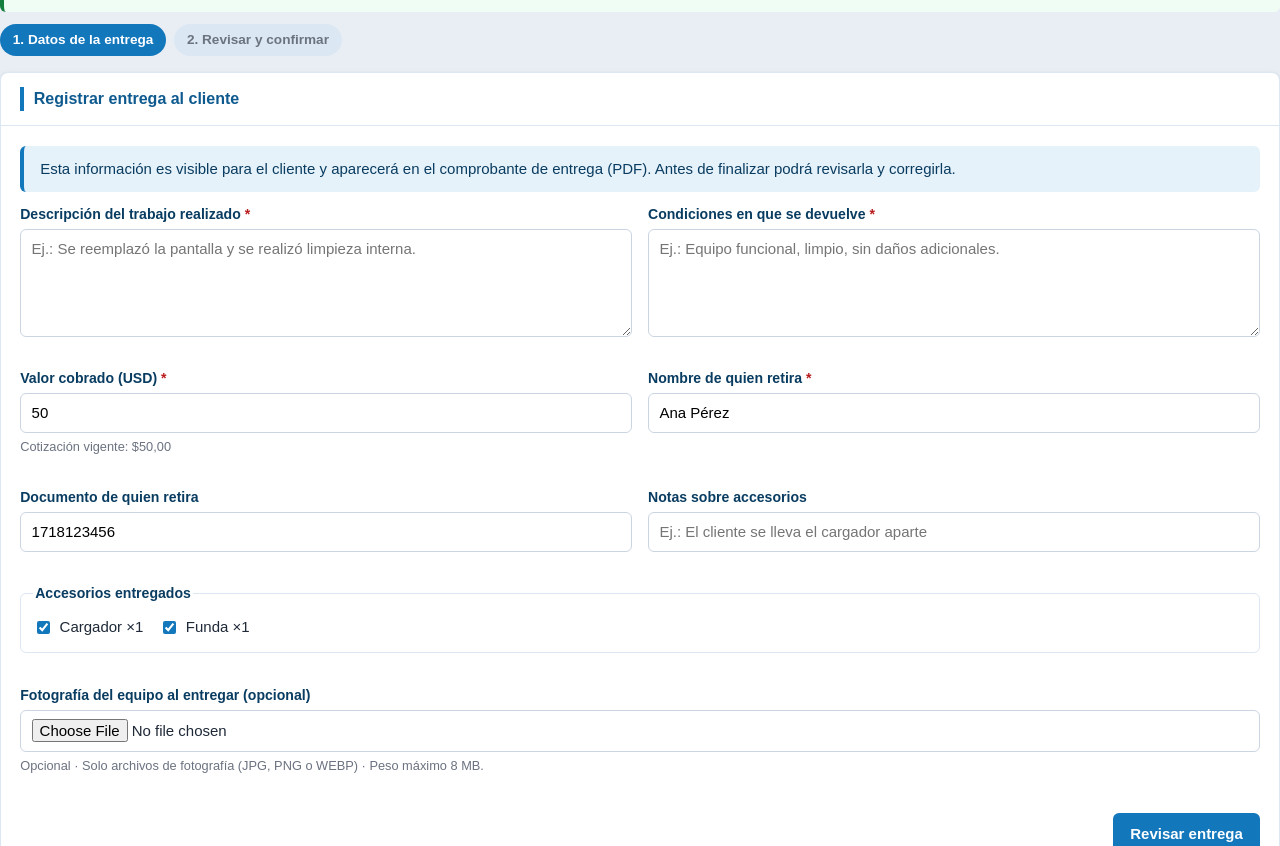
it: DeliverySection — editar, revisar y confirmar › muestra un resumen con avisos y no registra hasta confirmar "¿Está seguro?"
Later steps or results of the test are not shown.
Type "Cambio de pantalla" into the text box labelled "Descripción del trabajo realizado *" at coordinates (326, 283), box [20,229,632,337]
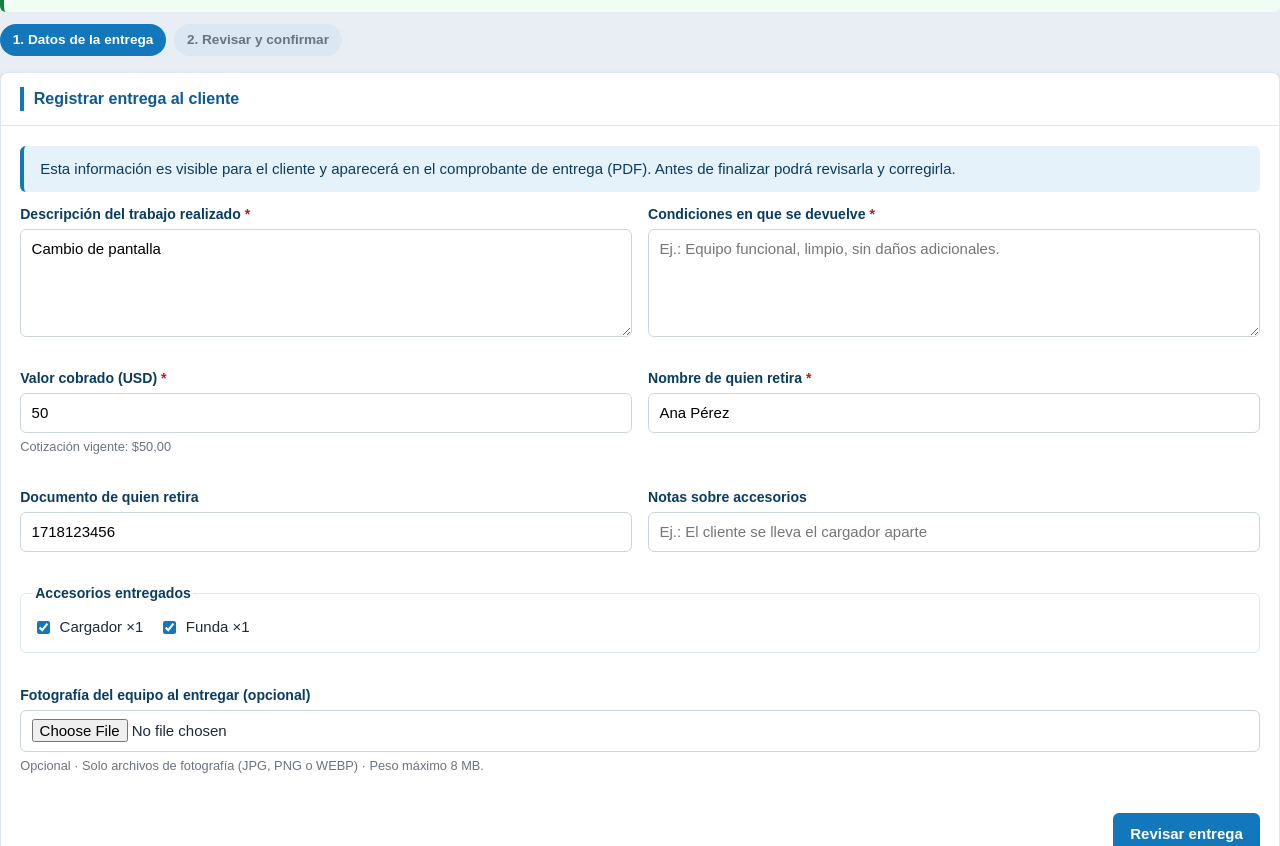
Type "Funcional y limpio" into the text box labelled "Condiciones en que se devuelve *" at coordinates (954, 283), box [648,229,1260,337]
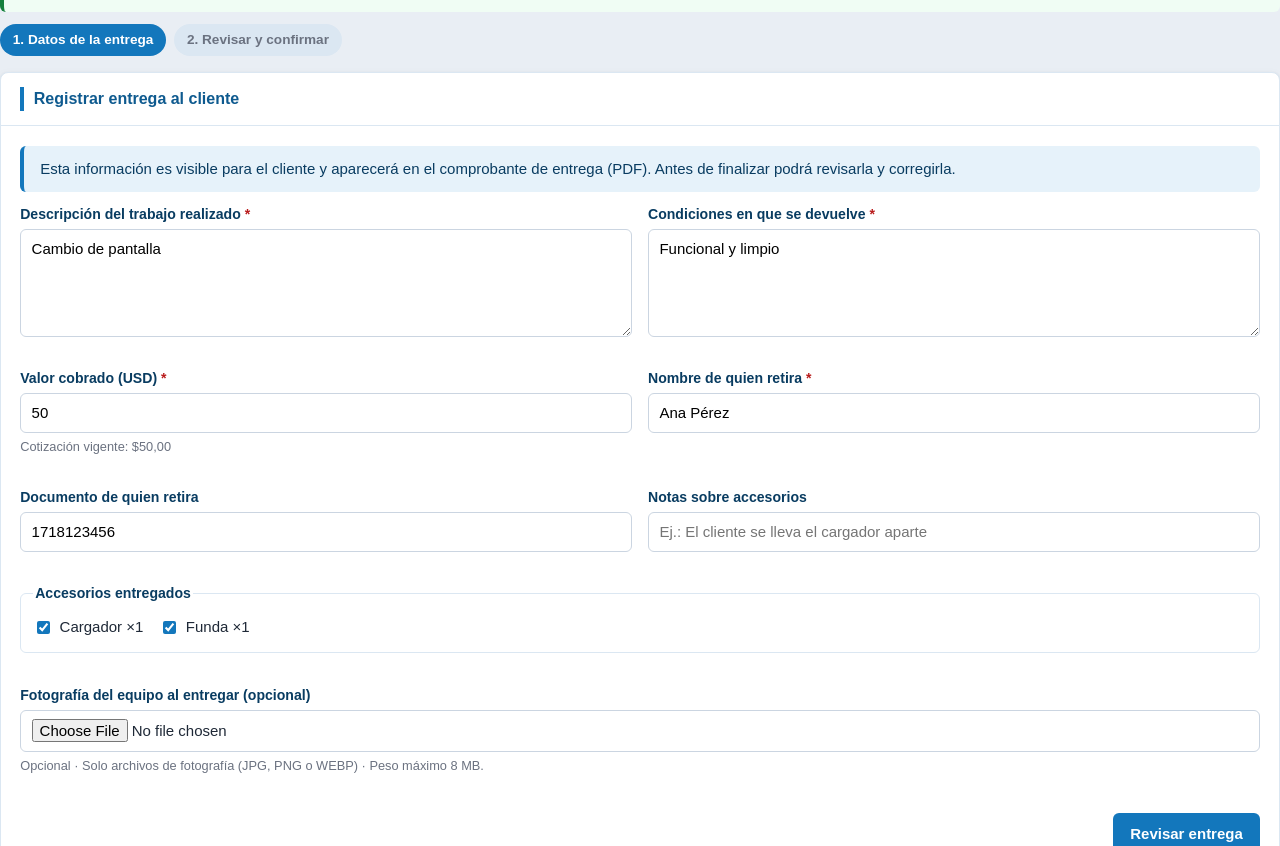
Replace the text in the field labelled "Valor cobrado (USD) *" with "60" at coordinates (326, 413), box [20,393,632,433]
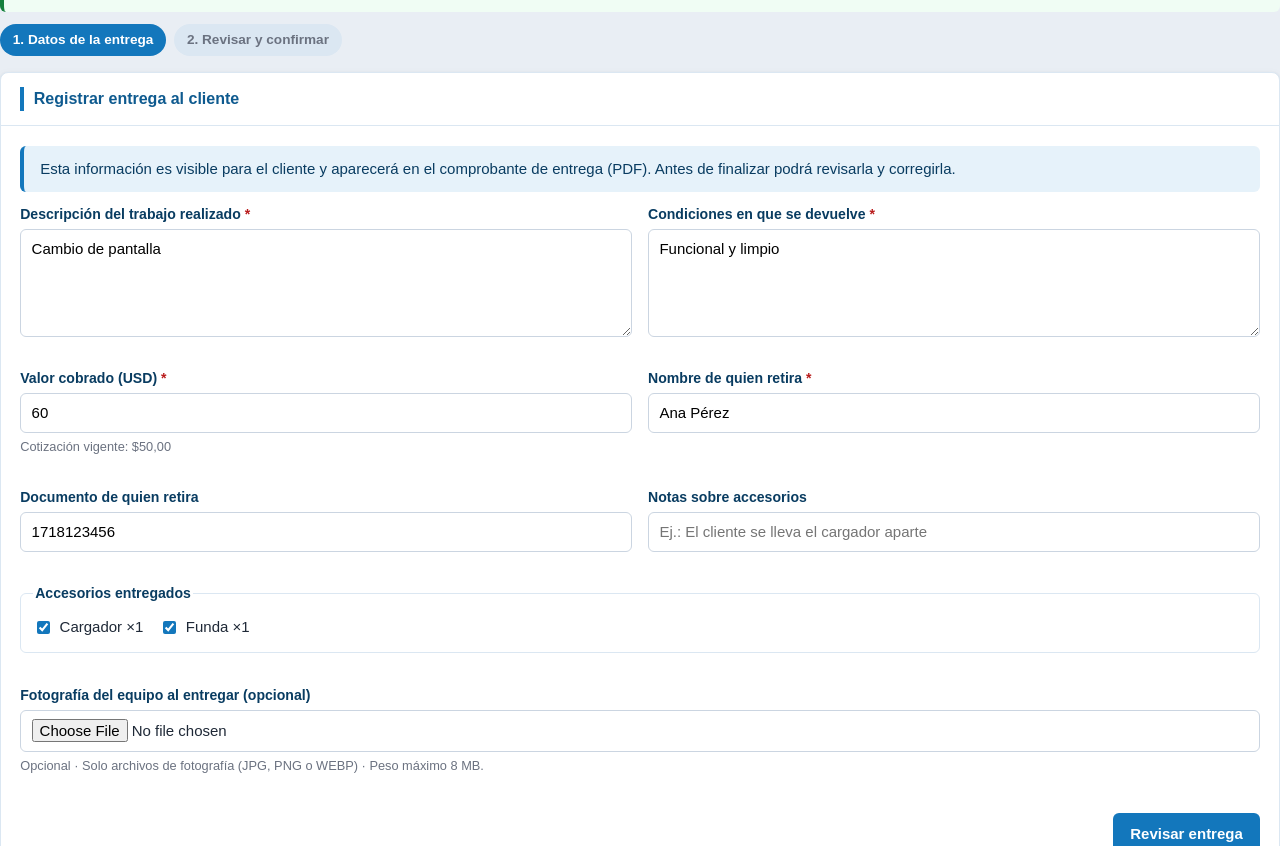
Click the checkbox labelled "Funda ×1" at coordinates (170, 627), box [163,621,176,634]
(page scrolled)
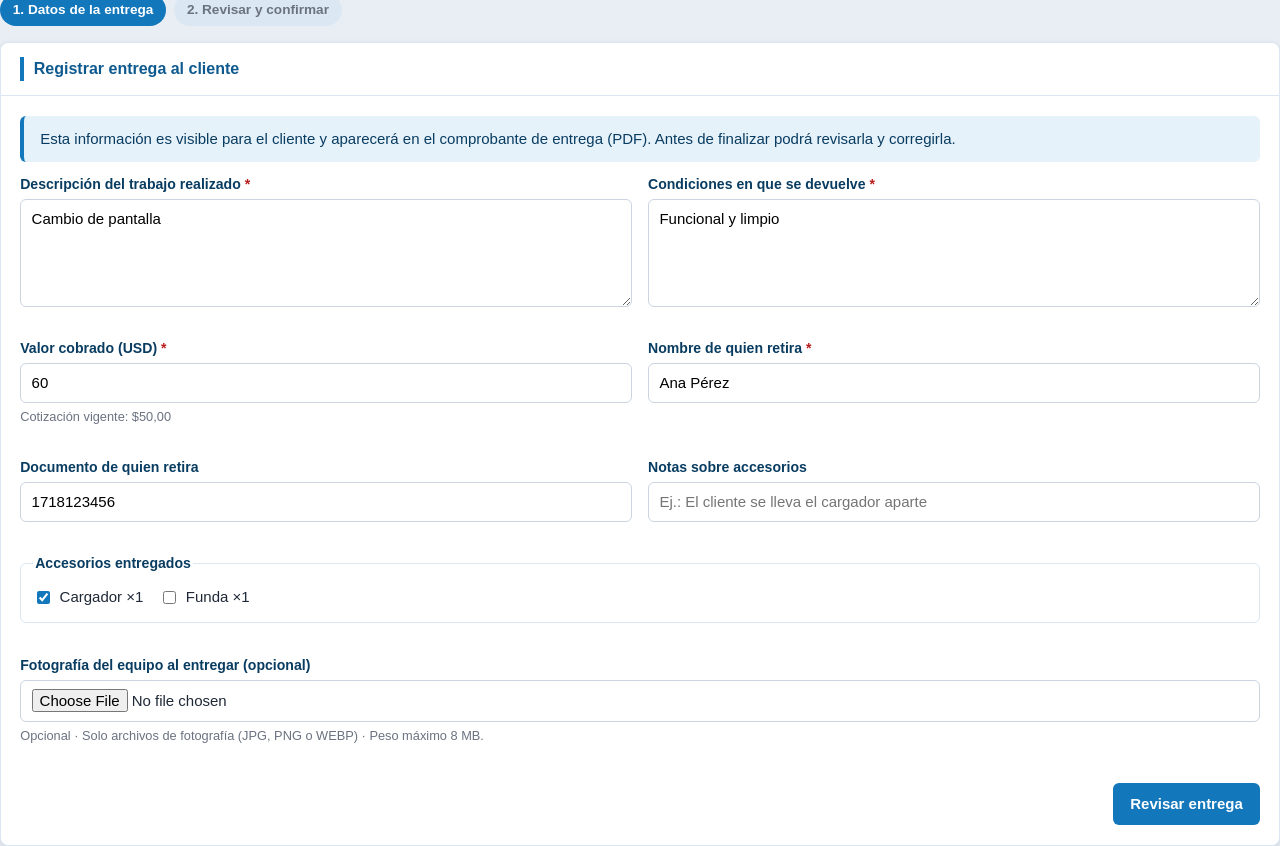
Click the button "Revisar entrega" at coordinates (1187, 804), box [1113,783,1260,826]
(page scrolled)
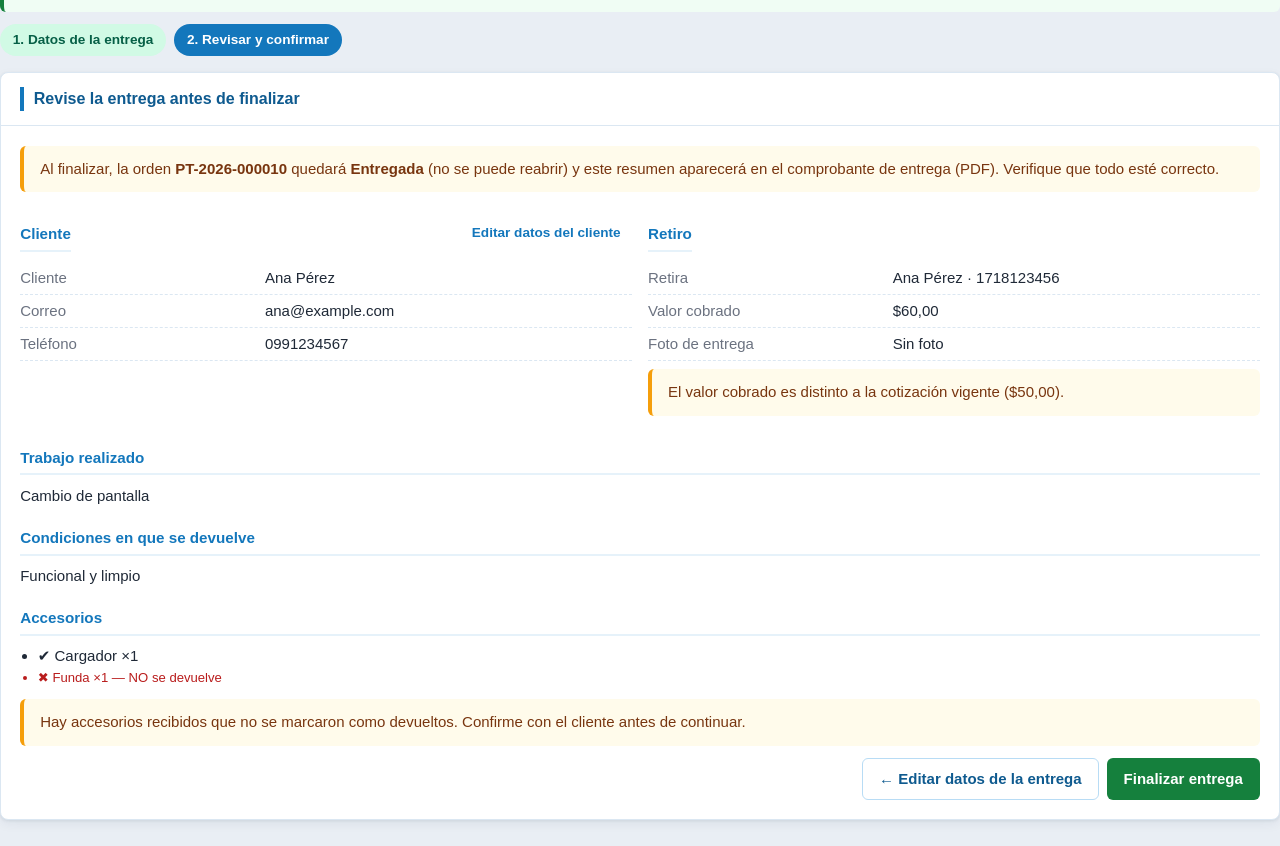
expect the heading "Revise la entrega antes de finalizar" is shown: met, box [20,87,300,111]
expect the text "Cambio de pantalla" is shown: met, box [20,487,150,504]
expect the list item "✖ Funda ×1 — NO se devuelve" is shown: met, box [38,670,222,685]
Click the button "Finalizar entrega" at coordinates (1183, 779), box [1107,758,1260,800]
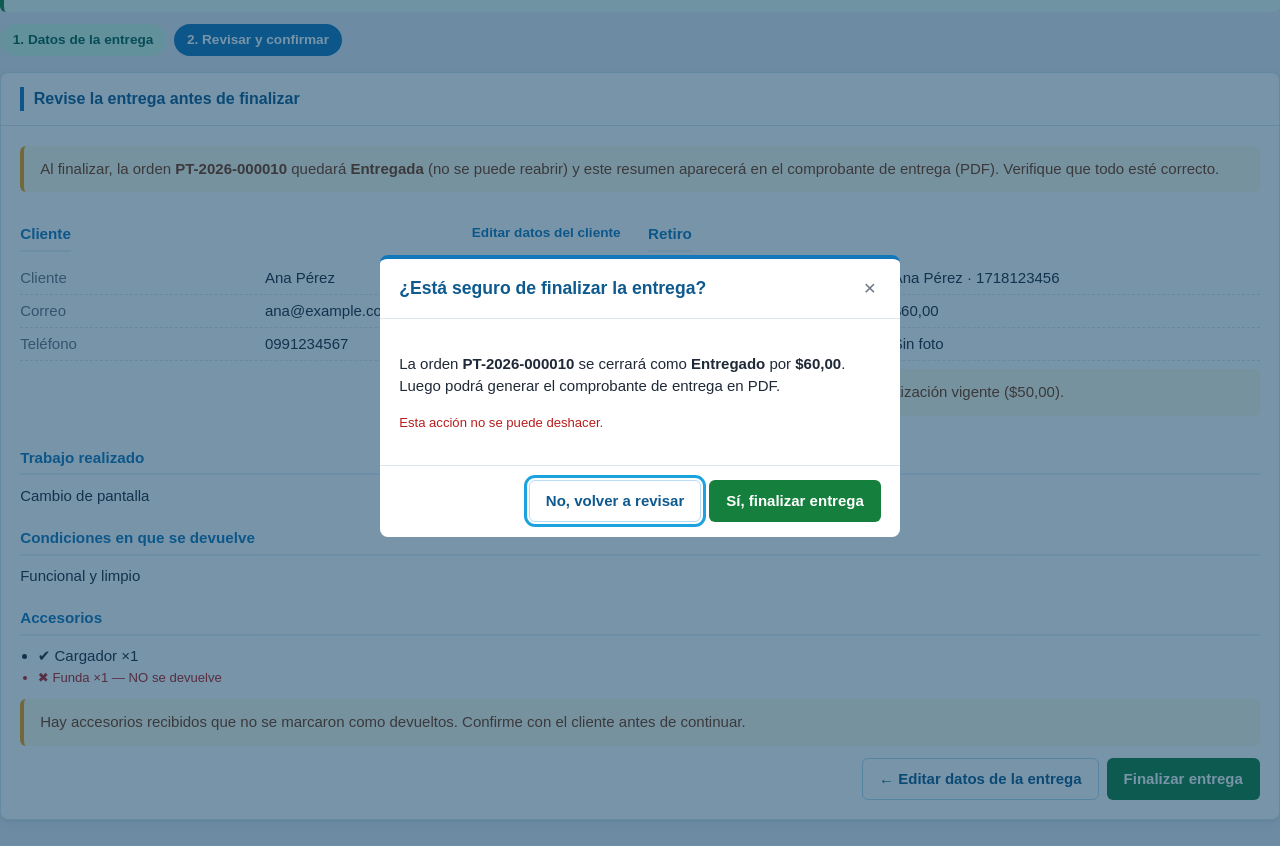
expect the heading "¿Está seguro de finalizar la entrega?" is shown: met, box [399,275,706,302]
expect the text "Esta acción no se puede deshacer." is shown: met, box [399,415,603,430]
